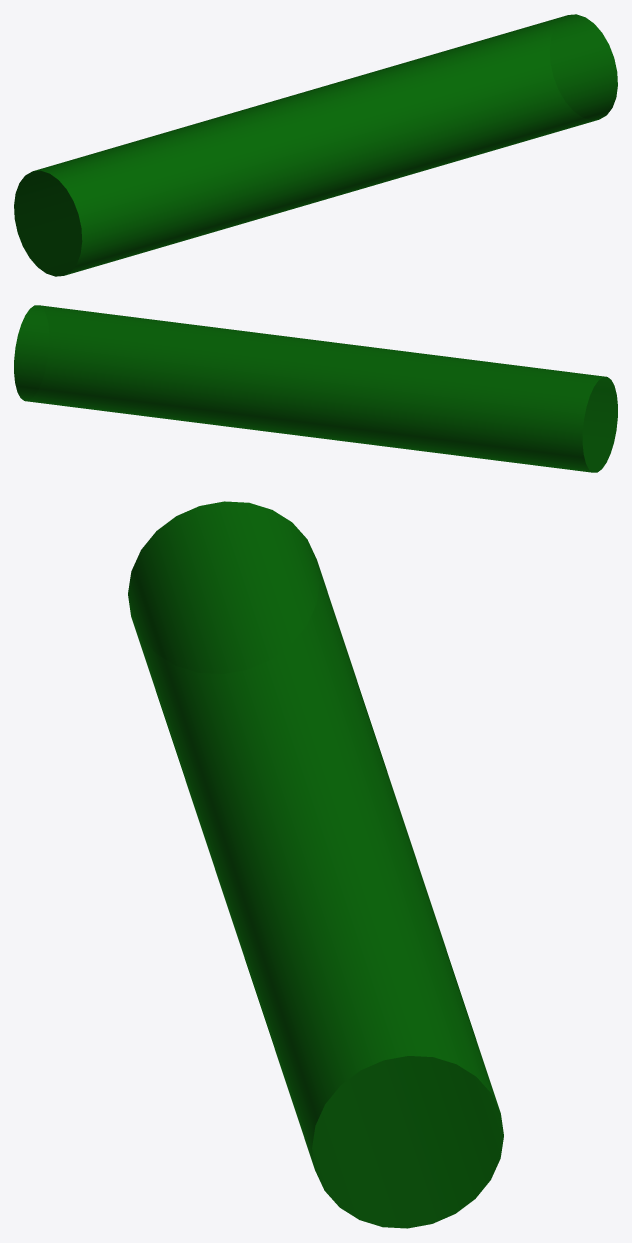
Rendered from Event_194851961_jet_9.fbx.
The picture shows the model from 3 angles, top to bottom: view 1: azimuth 30°, elevation 25°; view 2: azimuth 150°, elevation 25°; view 3: azimuth 270°, elevation 25°; orthographic projection. The views are drawn at different scales.
Parts seen in each view (by area): view 1: Model; view 2: Model; view 3: Model.
Part boxes in pixels (x1,y1,x2,y2): Model: (14, 14, 617, 276); Model: (14, 305, 617, 472); Model: (128, 501, 503, 1228).
Bounding box in the file's own units: 0.2547 × 0.05 × 0.0774.
